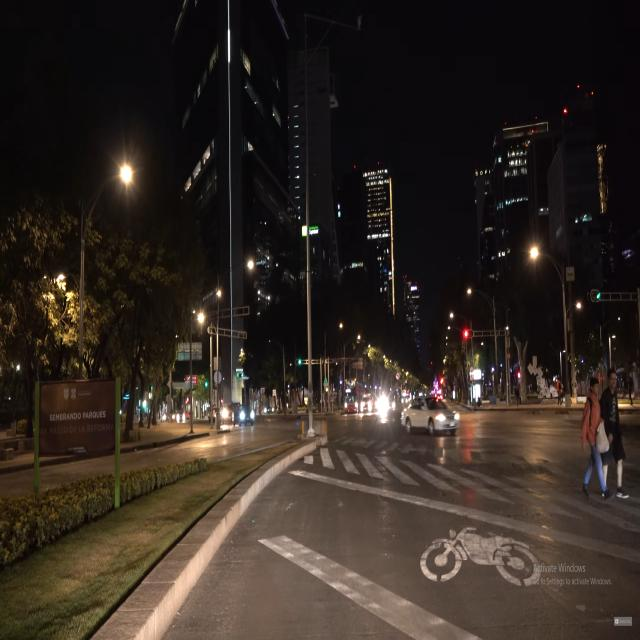headlights: (427, 404, 469, 435), (237, 405, 260, 428)
